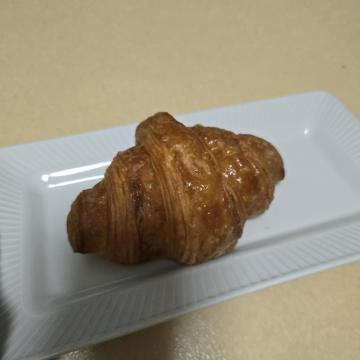croissant: (102, 69, 280, 300)
